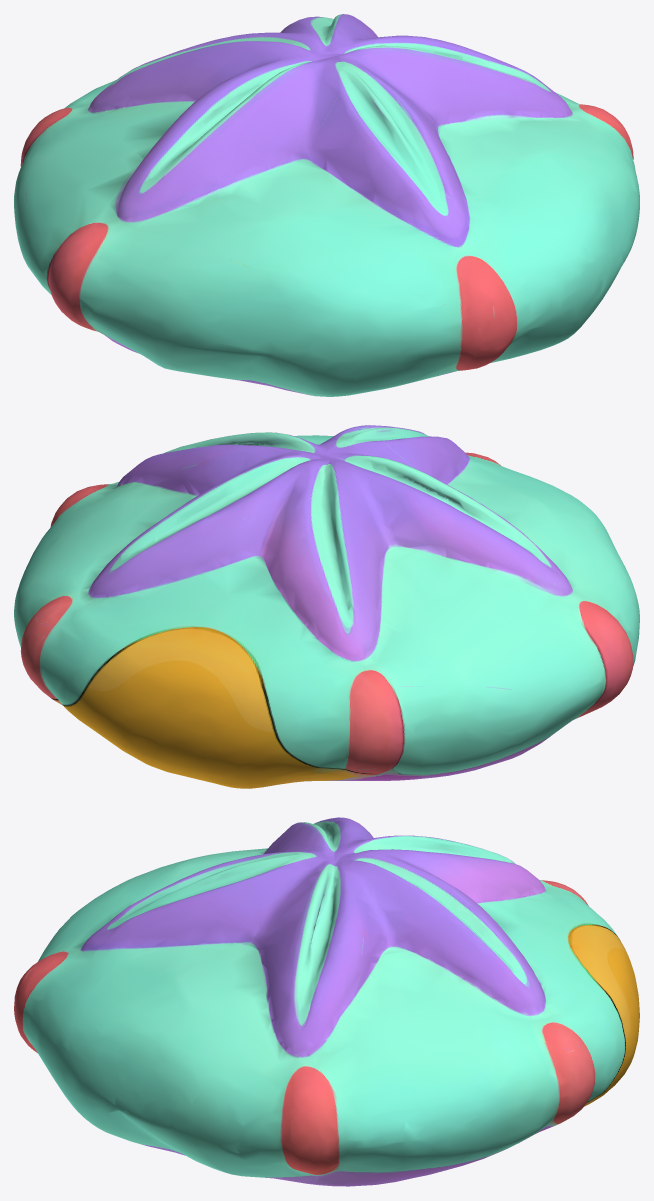
Rendered from static.glb.
The picture shows the model from 3 angles, top to bottom: view 1: azimuth 30°, elevation 25°; view 2: azimuth 150°, elevation 25°; view 3: azimuth 270°, elevation 25°; orthographic projection. The views are drawn at different scales.
Visible parts, largest first — view 1: Mesh_0; view 2: Mesh_0; view 3: Mesh_0.
Part boxes in pixels (x1,y1,x2,y2): Mesh_0: (14,14,639,396); Mesh_0: (14,425,639,788); Mesh_0: (14,817,639,1186).
Size of the model in its own units: 1.9 by 0.8621 by 1.85.
Materials: 1 (1 with a texture image).
